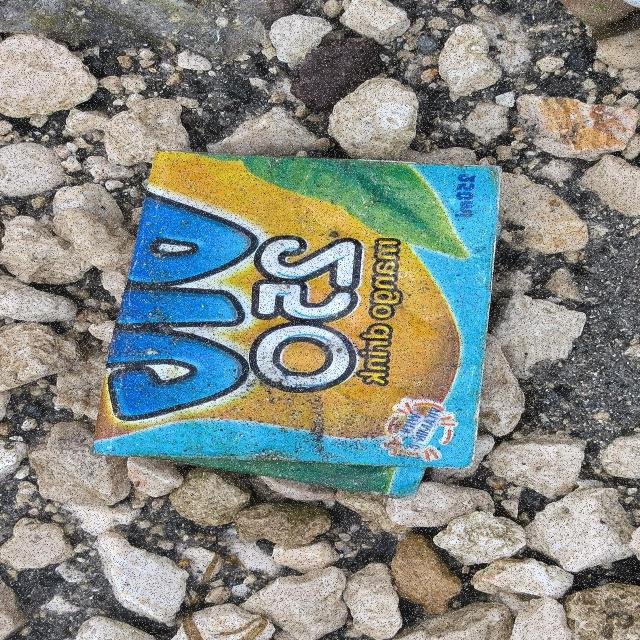plastic_waste: (95, 152, 502, 501)
